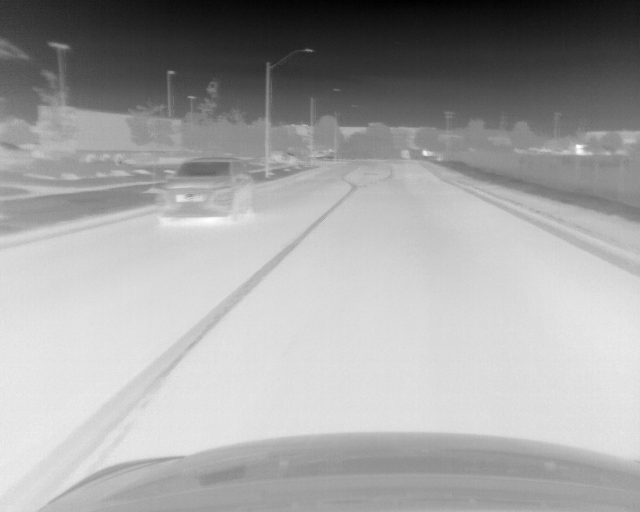car: (159, 157, 254, 222)
